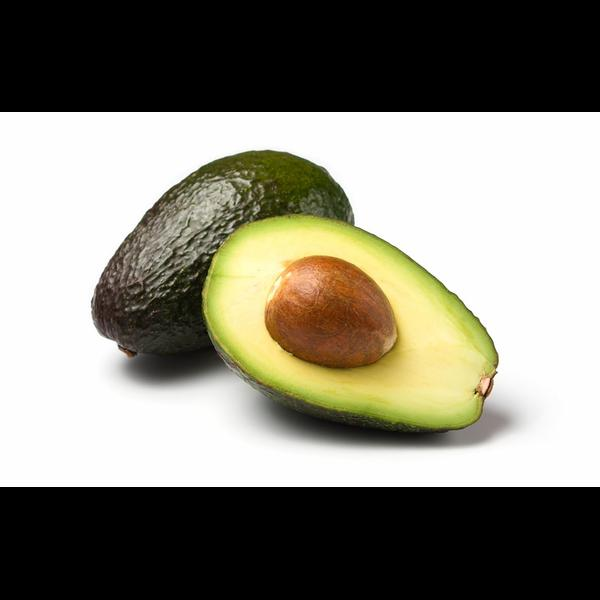almost: (91, 150, 356, 358)
